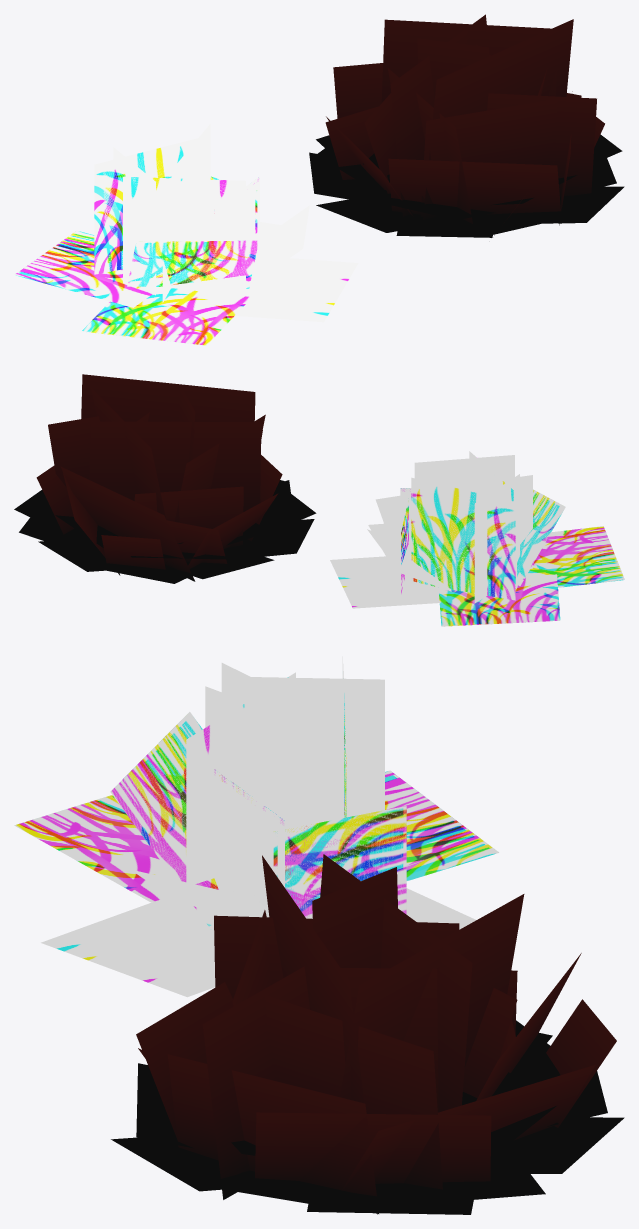
Rendered from Foliage3.fbx.
The picture shows the model from 3 angles, top to bottom: view 1: azimuth 30°, elevation 25°; view 2: azimuth 150°, elevation 25°; view 3: azimuth 270°, elevation 25°; orthographic projection. The views are drawn at different scales.
Visible parts, largest first — view 1: TFD_Grass_Patch_02A_LOD0.001; view 2: TFD_Grass_Patch_02A_LOD0.001; view 3: TFD_Grass_Patch_02A_LOD0.001.
Boxes of the visible parts, x1=… form: TFD_Grass_Patch_02A_LOD0.001: x1=14, y1=14, x2=624, y2=345; TFD_Grass_Patch_02A_LOD0.001: x1=14, y1=374, x2=624, y2=626; TFD_Grass_Patch_02A_LOD0.001: x1=14, y1=656, x2=624, y2=1214.
Size of the model in its own units: 485 by 129 by 280.
